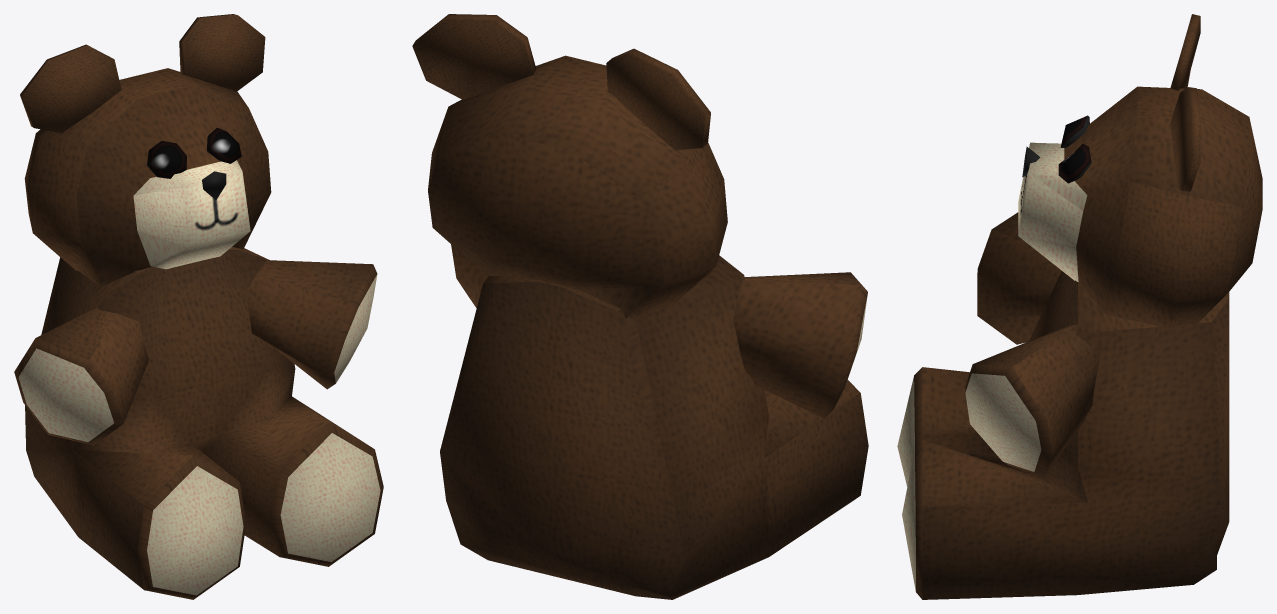
The model's file is Buddy_Bear.FBX.
3 renders of one model, left to right at view 1: azimuth 30°, elevation 25°; view 2: azimuth 150°, elevation 25°; view 3: azimuth 270°, elevation 25°, orthographic. The views are drawn at different scales.
Visible parts, largest first — view 1: Buddy_ Bear; view 2: Buddy_ Bear; view 3: Buddy_ Bear.
Boxes of the visible parts, x1,y1,x2,y2 form: Buddy_ Bear: (14, 14, 383, 599); Buddy_ Bear: (412, 14, 868, 599); Buddy_ Bear: (897, 14, 1262, 599).
Size of the model in its own units: 55.36 by 71.18 by 46.3.
